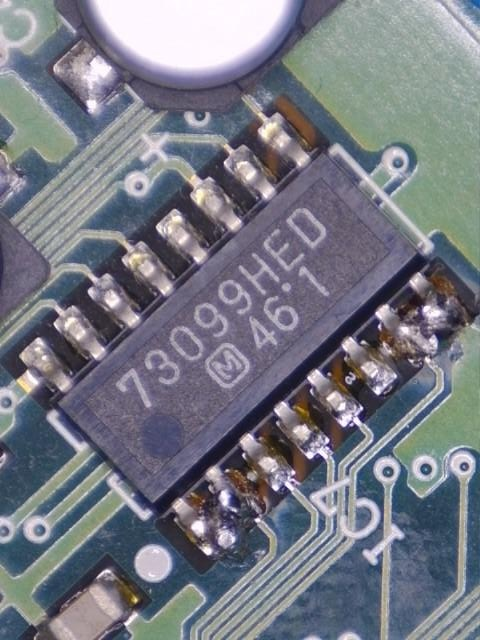pcb_defect: (171, 464, 266, 561), (375, 272, 473, 366)
